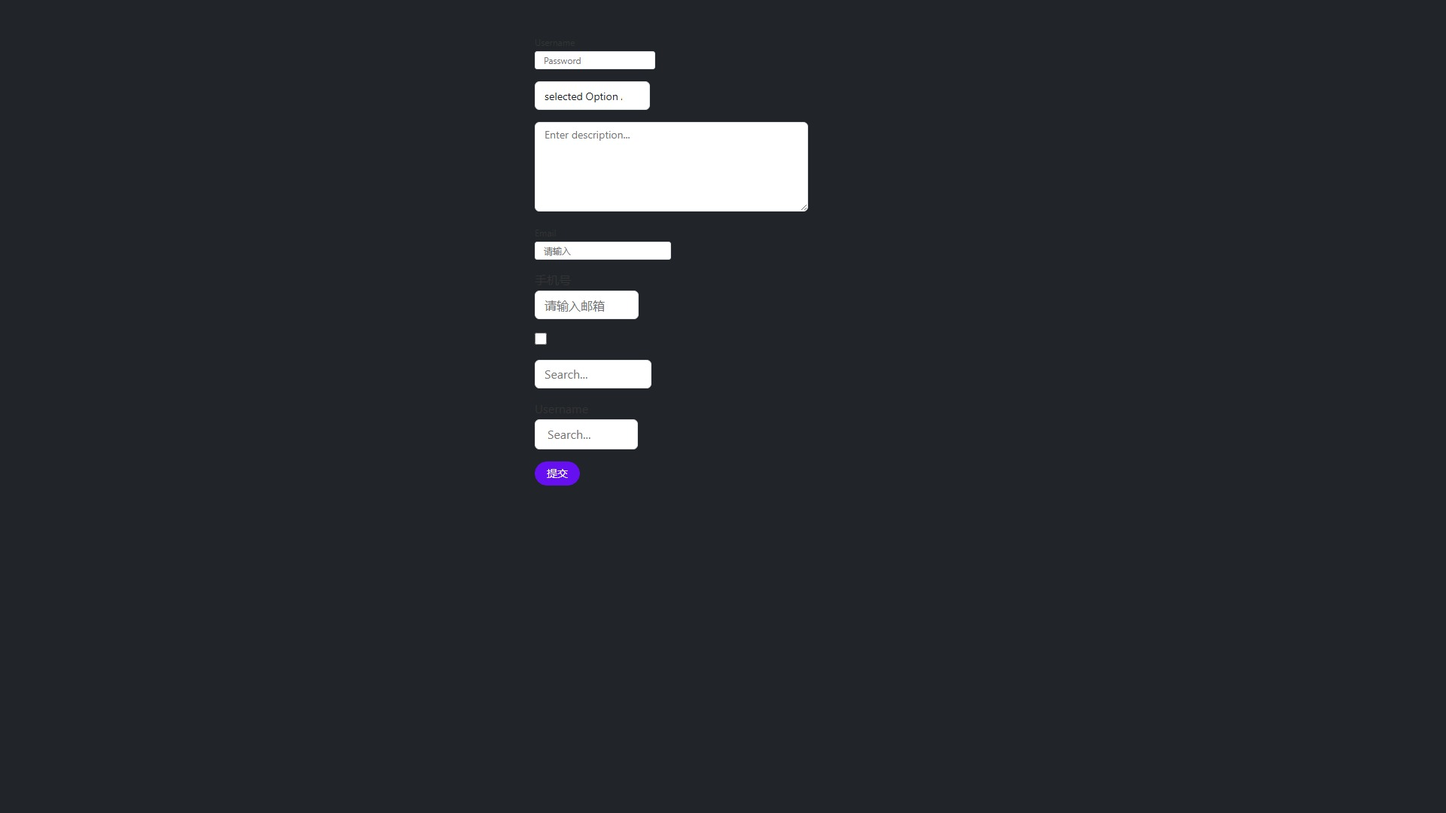button: (535, 461, 580, 485)
checkbox: (535, 332, 547, 344)
icon: (553, 331, 595, 346)
input: (535, 359, 651, 388), (535, 419, 638, 449), (535, 291, 639, 319), (535, 242, 671, 260), (535, 51, 655, 69)
radio: (535, 331, 595, 346)
select: (535, 81, 650, 110)
textarea: (535, 122, 808, 212)
